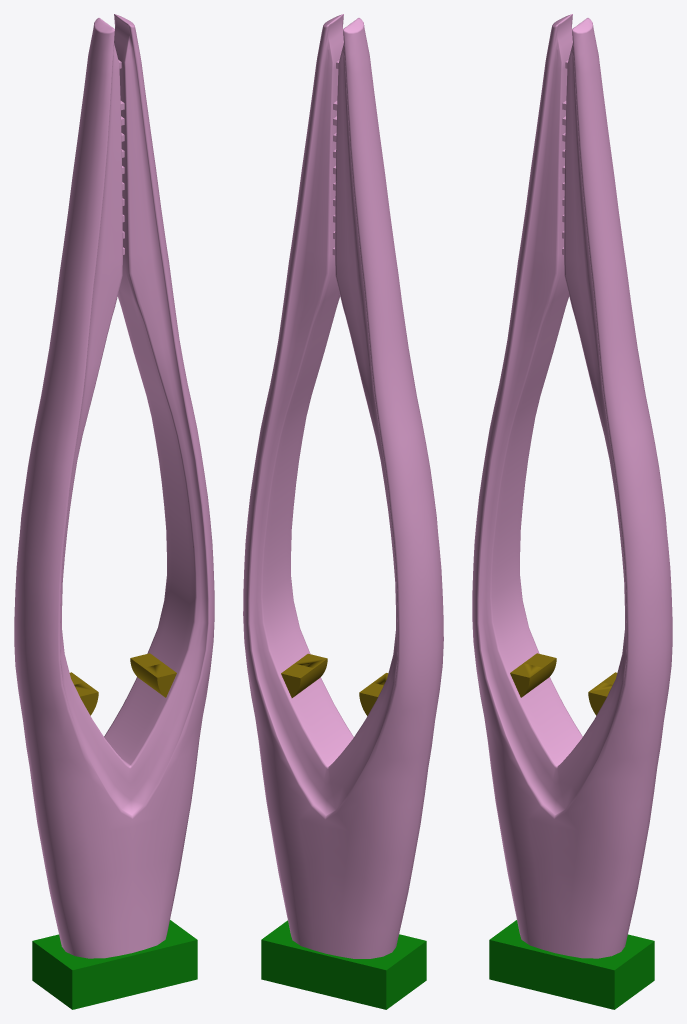
The picture shows the model from 3 angles, left to right: view 1: azimuth 30°, elevation 25°; view 2: azimuth 150°, elevation 25°; view 3: azimuth 330°, elevation 25°; orthographic projection.
Parts seen in each view (by area): view 1: 1qt, 1ct, 1nt; view 2: 1qt, 1ct, 1nt; view 3: 1qt, 1ct, 1nt.
Boxes of the visible parts, bbox=[...] form: 1qt: bbox=[14, 14, 214, 958]; 1ct: bbox=[32, 920, 197, 1009]; 1nt: bbox=[69, 653, 176, 715]; 1qt: bbox=[243, 14, 443, 958]; 1ct: bbox=[261, 920, 426, 1009]; 1nt: bbox=[281, 653, 388, 715]; 1qt: bbox=[472, 14, 672, 958]; 1ct: bbox=[489, 920, 654, 1009]; 1nt: bbox=[510, 653, 617, 715].
Bounding box in the file's own units: 3448 × 16920 × 1313.
